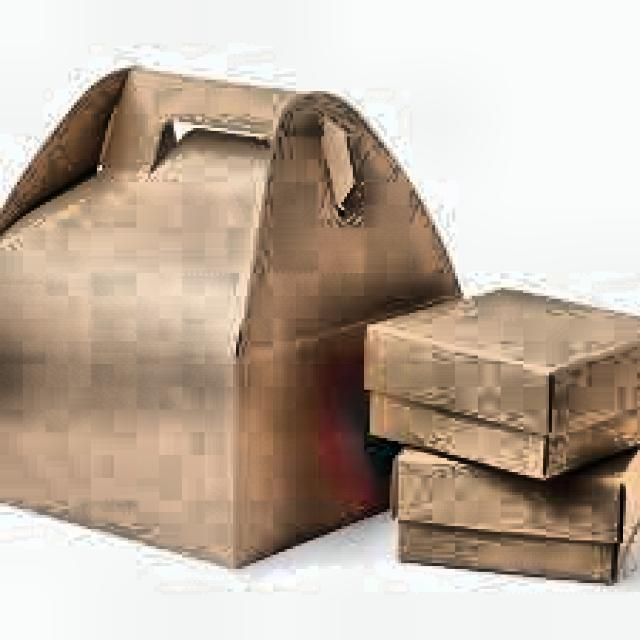cardboard: (0, 62, 464, 569), (361, 282, 637, 480)
